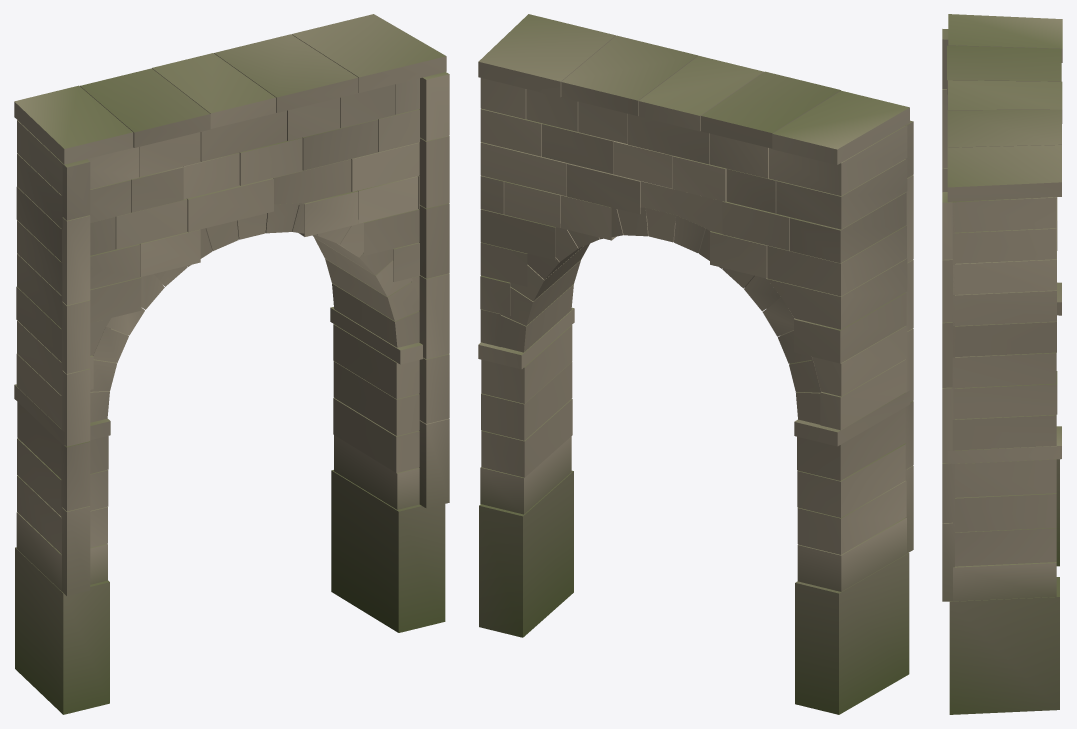
File: arena_outer_mid.glb
The picture shows the model from 3 angles, left to right: view 1: azimuth 30°, elevation 25°; view 2: azimuth 150°, elevation 25°; view 3: azimuth 270°, elevation 25°; orthographic projection. The views are drawn at different scales.
Visible parts, largest first — view 1: arena_outer_mid; view 2: arena_outer_mid; view 3: arena_outer_mid.
Boxes of the visible parts, x1,y1,x2,y2 form: arena_outer_mid: [14, 14, 449, 714]; arena_outer_mid: [478, 14, 913, 714]; arena_outer_mid: [942, 14, 1062, 714].
Size of the model in its own units: 19.8 by 27.99 by 5.77.
